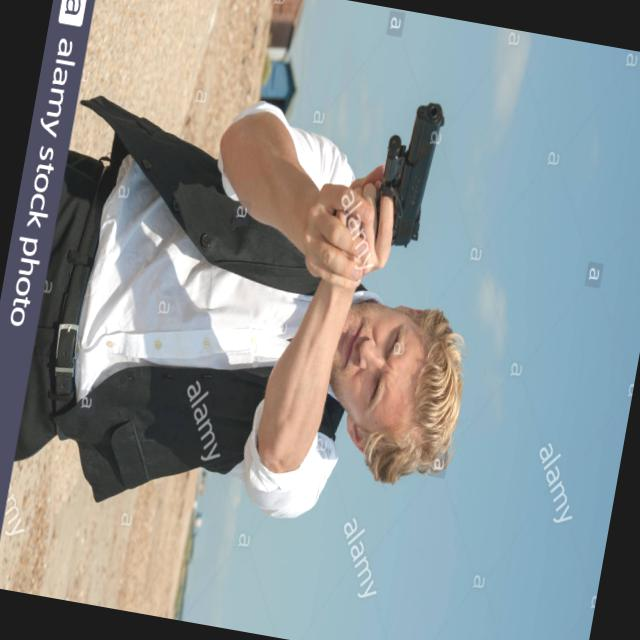handgun: (368, 90, 453, 258)
